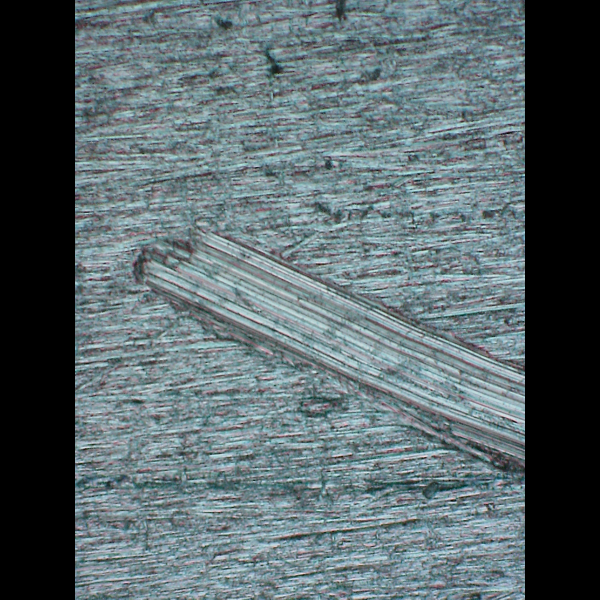d: (124, 221, 524, 483)
